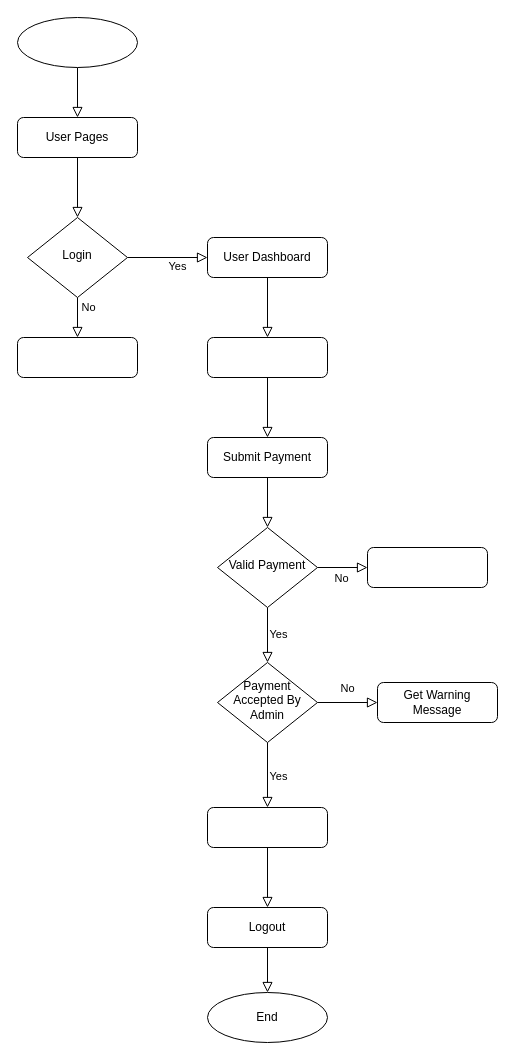
Image size: 515x1060. Some labels were removed from this diagram. Here are the shapes that lost their labels. From the top down, the centre of each, then its label:
At pixel 77 42: "Start".
At pixel 77 357: "Visit Home Page or Retry Login".
At pixel 267 357: "Navigate to Submit Payment Page".
At pixel 427 567: "Retry Submit Payment".
At pixel 267 827: "Get Receipt Message".
